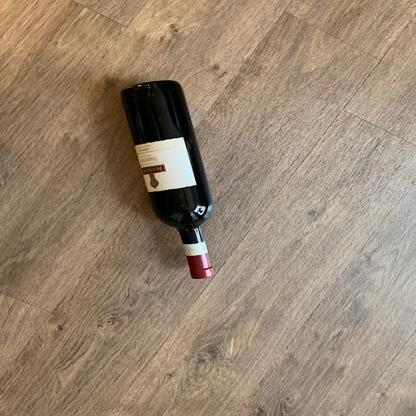trash: (118, 77, 220, 281)
